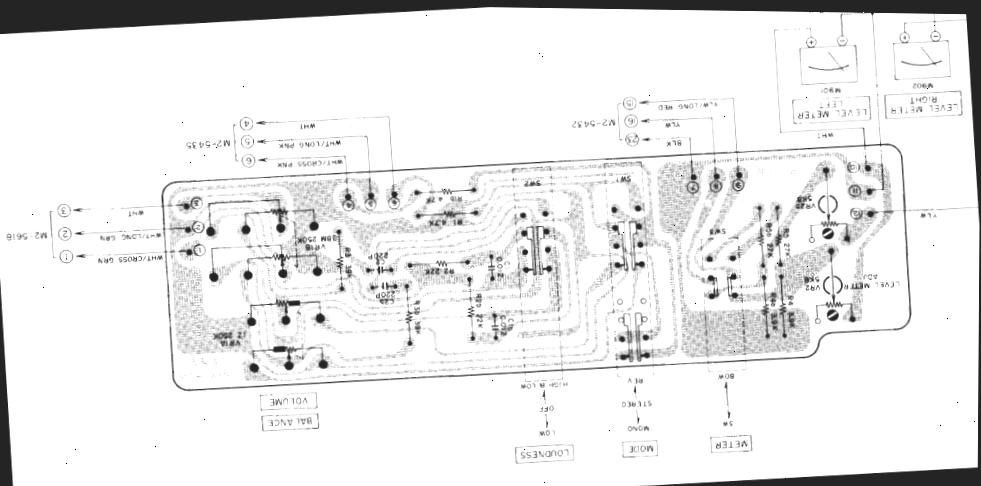compo_name: (652, 91, 723, 118), (793, 101, 870, 124), (272, 151, 347, 174), (94, 246, 167, 269), (271, 133, 347, 155), (512, 440, 574, 466), (89, 229, 177, 246), (566, 111, 618, 134), (258, 391, 315, 411), (181, 132, 233, 153), (264, 411, 317, 431), (515, 377, 570, 396), (618, 438, 662, 461), (613, 393, 658, 415), (205, 328, 248, 350), (0, 225, 49, 244), (710, 434, 753, 454), (903, 89, 942, 109), (289, 117, 327, 136), (840, 278, 874, 296), (622, 420, 655, 438), (872, 275, 903, 294), (490, 252, 508, 282), (528, 425, 559, 442), (804, 12, 869, 20), (907, 78, 938, 94), (425, 265, 458, 280), (816, 84, 845, 100), (858, 267, 883, 285), (792, 199, 818, 216), (762, 238, 779, 263), (705, 224, 731, 240), (367, 250, 393, 266), (783, 308, 800, 332), (622, 375, 649, 390), (424, 216, 451, 231), (791, 190, 816, 206), (660, 138, 688, 152), (821, 96, 847, 111), (660, 119, 685, 134), (372, 295, 397, 310), (533, 402, 558, 417), (422, 195, 448, 209), (778, 217, 794, 239), (812, 131, 837, 145), (780, 238, 795, 261), (120, 207, 146, 220), (317, 231, 339, 246), (800, 274, 822, 289), (764, 287, 779, 309), (522, 176, 544, 191), (410, 296, 424, 318), (472, 311, 486, 333), (330, 256, 346, 275), (342, 261, 356, 282), (768, 312, 781, 334), (448, 217, 470, 230), (471, 291, 485, 311), (800, 283, 821, 296), (384, 280, 400, 297), (294, 234, 316, 246), (448, 193, 468, 206), (751, 232, 766, 249), (308, 242, 329, 254), (717, 417, 736, 430), (782, 291, 797, 307), (341, 244, 355, 260), (412, 321, 425, 338), (718, 372, 738, 383), (505, 317, 517, 332), (787, 265, 805, 275)
